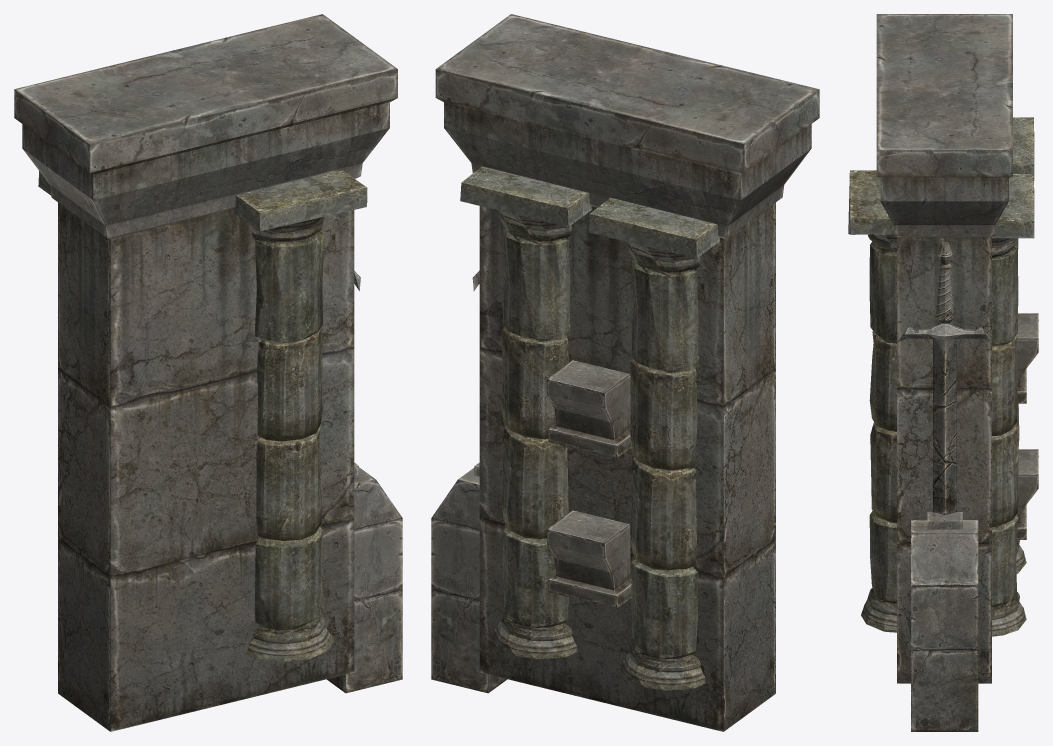
File: bg_lut_lutomb_gate01b_sm_phs.FBX
3 views of the same model, side by side, from view 1: azimuth 30°, elevation 25°; view 2: azimuth 150°, elevation 25°; view 3: azimuth 270°, elevation 25° (orthographic). The views are drawn at different scales.
Parts seen in each view (by area): view 1: bg_lut_lutomb_gate01b_sm_phs; view 2: bg_lut_lutomb_gate01b_sm_phs; view 3: bg_lut_lutomb_gate01b_sm_phs.
Part boxes in pixels (box(x1,y1,x2,y2)): bg_lut_lutomb_gate01b_sm_phs: box(14, 14, 402, 731); bg_lut_lutomb_gate01b_sm_phs: box(431, 14, 819, 731); bg_lut_lutomb_gate01b_sm_phs: box(848, 14, 1038, 731).
Size of the model in its own units: 171 by 310 by 93.64.
